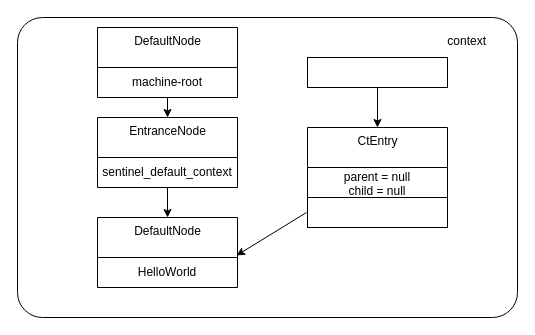
This 535x335 diagram has some shape labels left out. The centre of each missing label's shape, as x and y in pixels:
"curEntry" goes at point 377,72.
"curNode" goes at point 377,212.
